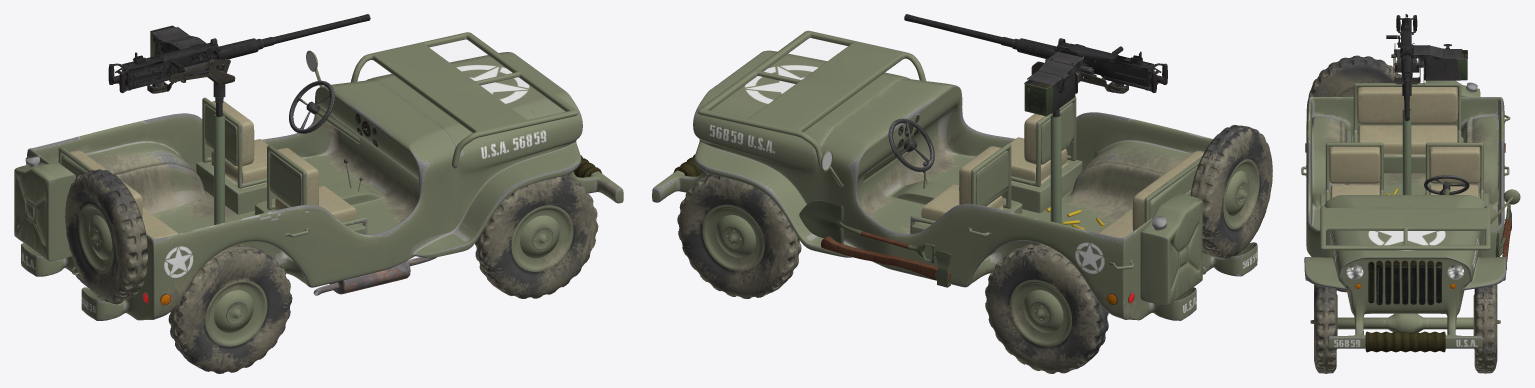
Rendered from jeep-willys-us.glb.
3 renders of one model, left to right at view 1: azimuth 30°, elevation 25°; view 2: azimuth 150°, elevation 25°; view 3: azimuth 270°, elevation 25°, orthographic. The views are drawn at different scales.
Visible parts, largest first — view 1: Cube, Cube.006, Cylinder.002, Cylinder.003, Cylinder.004, Cube.001, M2_00, M2_02, Cylinder.005, M2_01; view 2: Cube, Cube.006, Cylinder.001, Cylinder, Cube.001, Cylinder.004, M2_00, M2_02, Cube.010, Cube.009, Cylinder.005, Cube.008; view 3: Cube, Cube.006, Cube.001, Cylinder.004, Cylinder, M2_02, Cylinder.003, Cube.011, Cube.002, M2_00, Cylinder.005, M2_01 (+4 smaller).
Boxes of the visible parts, x1,y1,x2,y2 form: Cube: (21, 52, 623, 320); Cube.006: (14, 50, 436, 295); Cylinder.002: (168, 244, 292, 373); Cylinder.003: (475, 174, 598, 298); Cylinder.004: (65, 169, 148, 302); Cube.001: (351, 32, 578, 168); M2_00: (108, 14, 370, 93); M2_02: (147, 25, 230, 93); Cylinder.005: (214, 114, 224, 224); M2_01: (205, 60, 235, 116); Cube: (652, 50, 1257, 320); Cube.006: (821, 96, 1204, 305); Cylinder.001: (985, 244, 1108, 373); Cylinder: (677, 174, 801, 298); Cube.001: (697, 30, 925, 167); Cylinder.004: (1190, 125, 1272, 258); M2_00: (904, 14, 1167, 92); M2_02: (1024, 51, 1128, 116); Cube.010: (799, 200, 936, 263); Cube.009: (821, 236, 950, 282); Cylinder.005: (1050, 114, 1061, 223); Cube.008: (934, 250, 951, 287); Cube: (1304, 97, 1506, 348); Cube.006: (1301, 80, 1520, 292); Cube.001: (1320, 206, 1490, 250); Cylinder.004: (1308, 55, 1401, 98); Cylinder: (1473, 284, 1500, 373); M2_02: (1391, 43, 1467, 84); Cylinder.003: (1310, 284, 1337, 373); Cube.011: (1337, 313, 1473, 332); Cube.002: (1365, 331, 1445, 352); M2_00: (1386, 14, 1466, 121); Cylinder.005: (1402, 109, 1411, 194); M2_01: (1393, 53, 1420, 109).
Bounding box in the file's own units: 4.73 × 2.51 × 2.23.
Materials: 17 (12 with a texture image).
